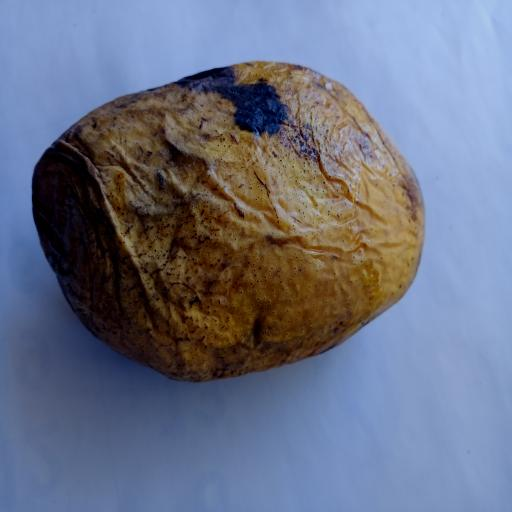mango-overripe: (20, 45, 430, 391)
